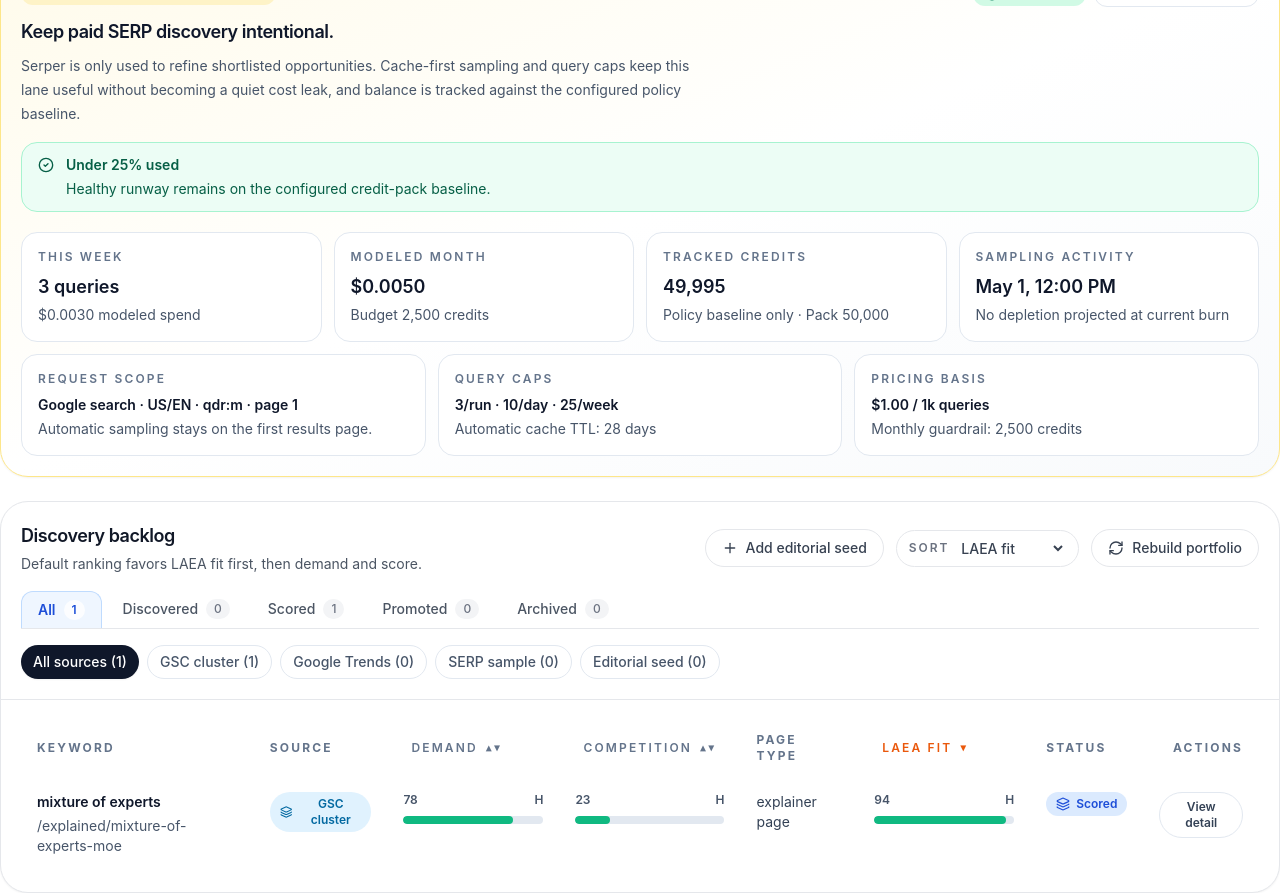
SeoKeywordPortfolioPage › shows the filtered empty state when a source has no opportunities
The width and height of the screenshot is (1280, 893).
(page scrolled)
Expected: the text "mixture of experts" is shown, [37,793,161,810]
What coordinates should you click on to do the following:
click the button "Google Trends (0)"
I would click on:
 (354, 662)
Its box is [280,645,427,679].
(page scrolled)
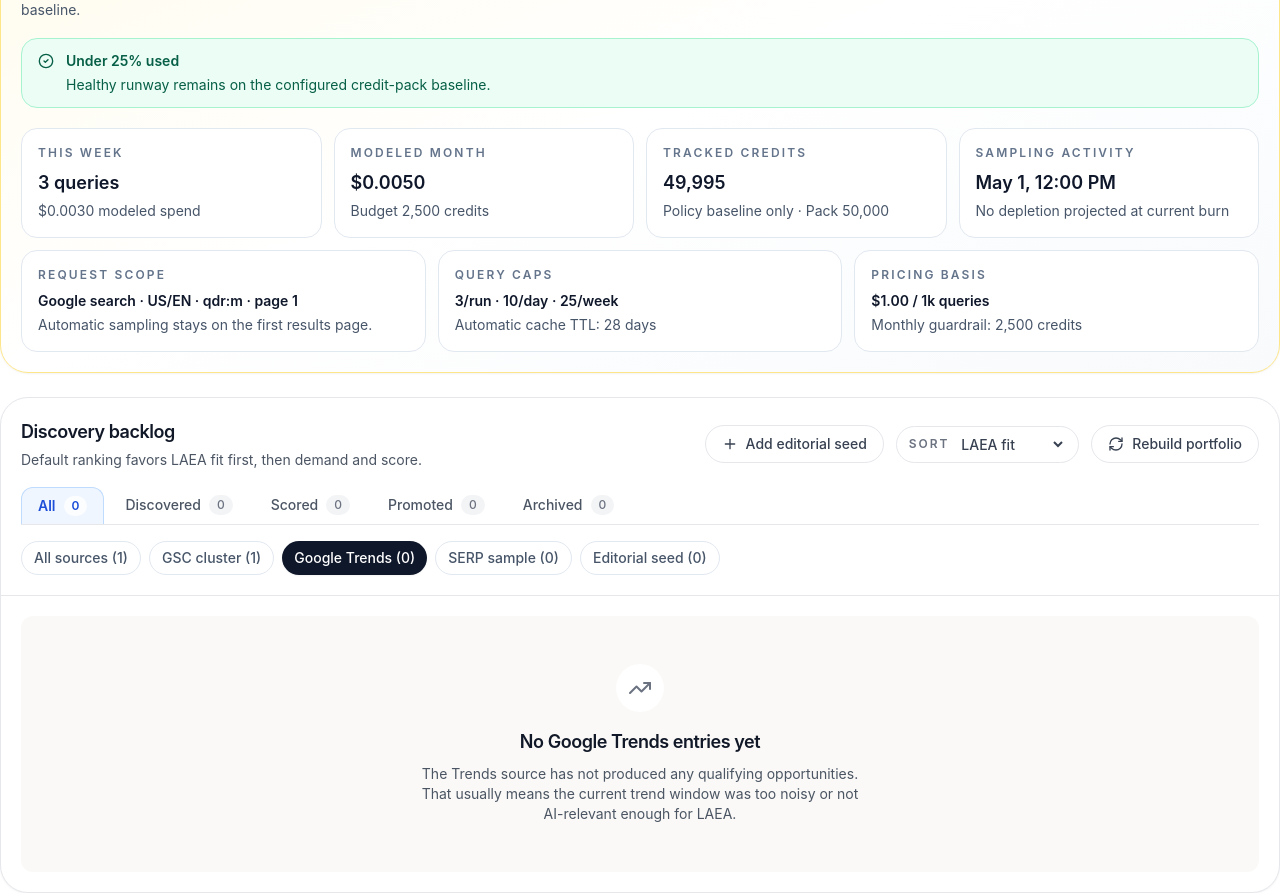
Expected: the heading "No Google Trends entries yet" is shown, [520,728,760,756]
Expected: the text "has not produced any qualifying opportunities" is shown, [422,765,858,822]
